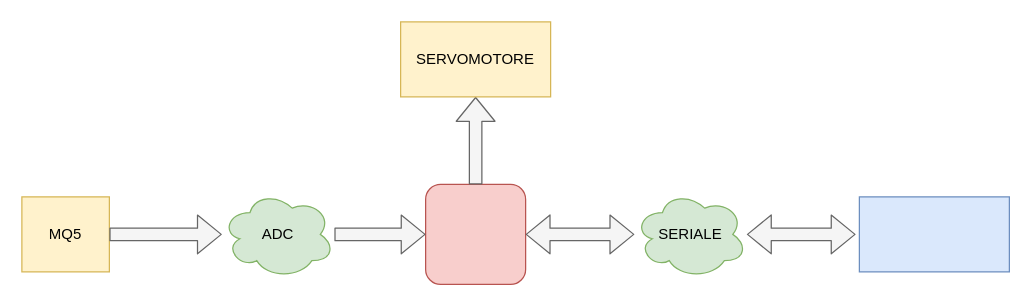
Image size: 1031x306. Some labels were removed from this diagram. Here are the shapes that lost their labels. From the top down, the centre of each, then its label:
the point at 475,233: ARDUINO
the point at 933,234: BRIDGE
